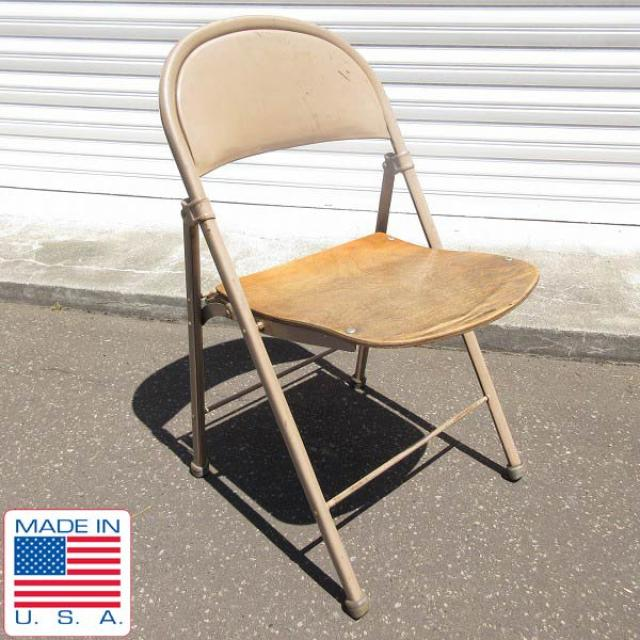chair vintage: (149, 14, 542, 619)
